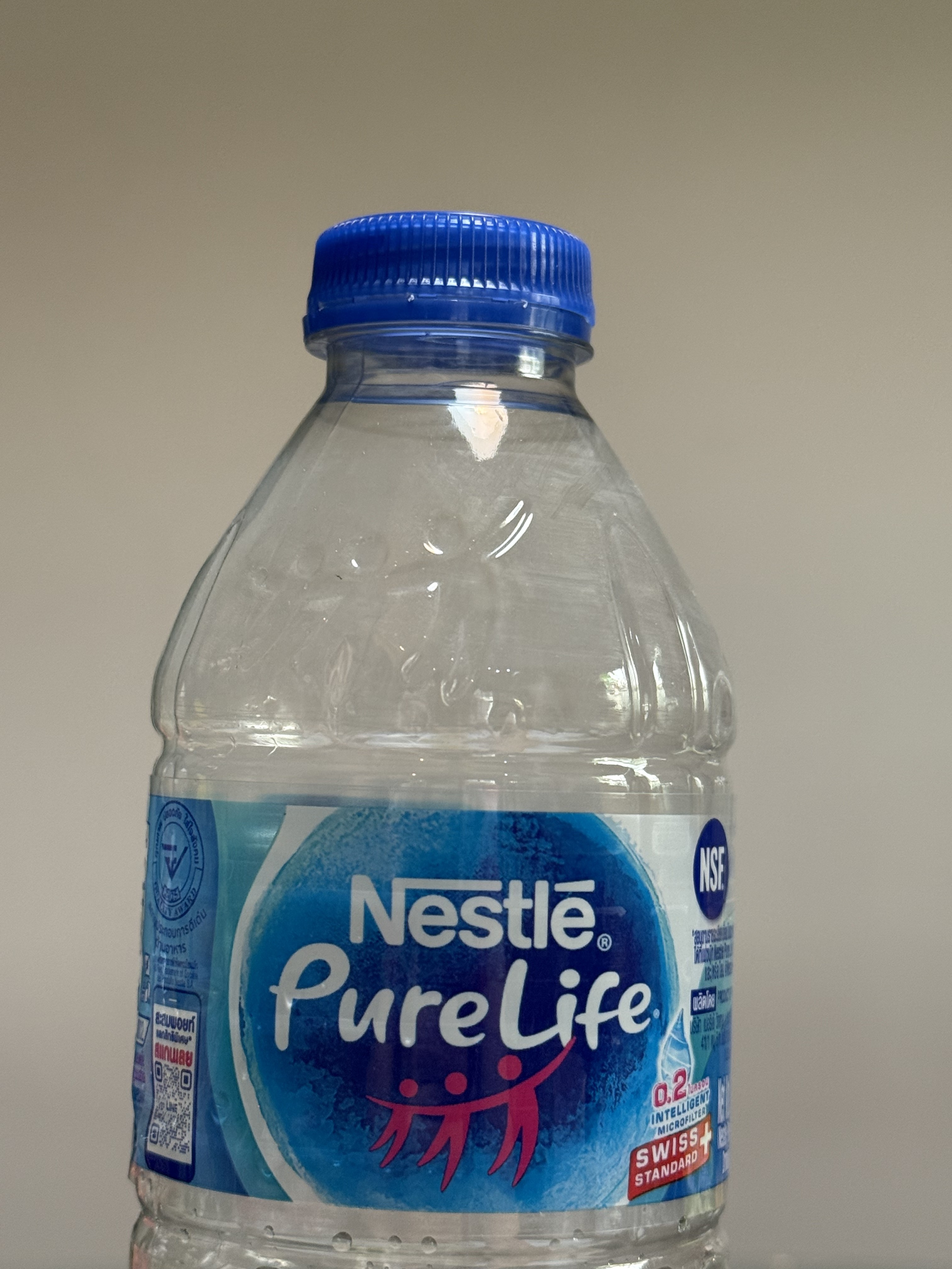closed_cap: (300, 206, 598, 357)
